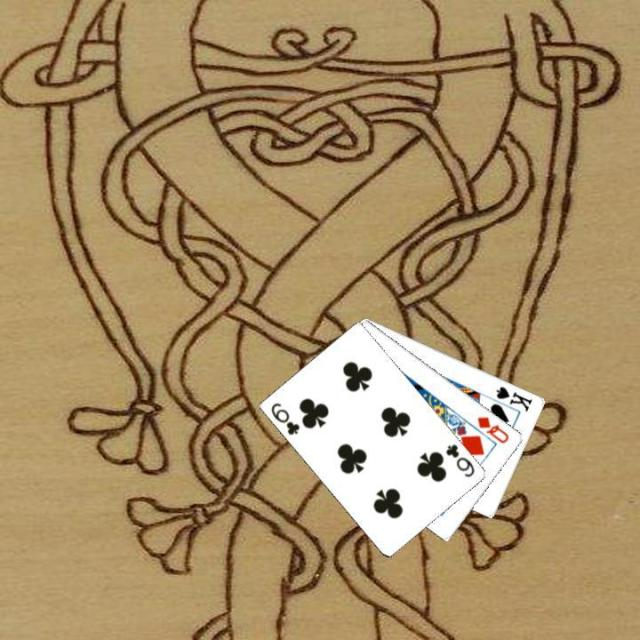6C: (442, 440, 477, 479), (268, 399, 302, 437)
KS: (492, 382, 534, 413)
QD: (474, 412, 511, 446)
